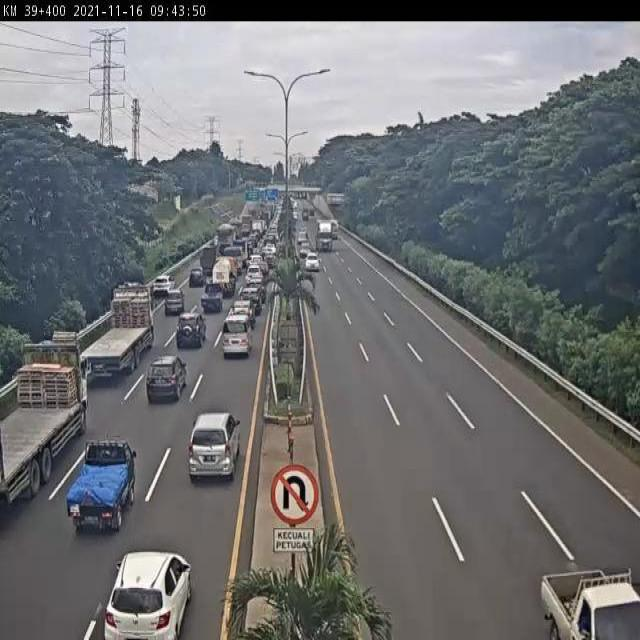car: (104, 552, 192, 640), (539, 565, 640, 640), (68, 440, 137, 532), (188, 412, 241, 481), (146, 356, 186, 405), (219, 319, 253, 365), (176, 314, 207, 349), (199, 283, 223, 316), (230, 300, 254, 333), (163, 293, 185, 320), (240, 287, 262, 313), (150, 277, 172, 299), (248, 277, 268, 299), (189, 265, 206, 287), (246, 265, 264, 284), (305, 253, 318, 268), (248, 254, 264, 266)
small truck: (195, 250, 216, 278), (225, 246, 244, 274)
truck-l-: (0, 349, 88, 502), (74, 288, 151, 379), (316, 221, 332, 251)
truck-m-: (212, 258, 235, 298), (214, 224, 234, 255)
